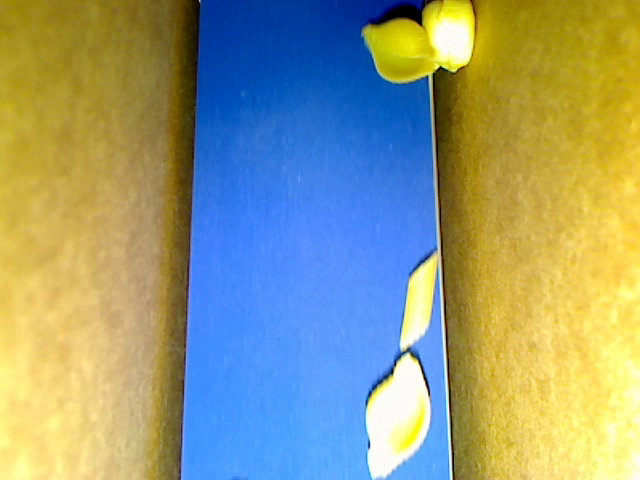penne: (398, 249, 439, 352)
shell: (366, 351, 432, 479), (362, 19, 441, 83)
